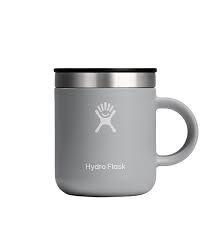Mug: (30, 44, 197, 201)
